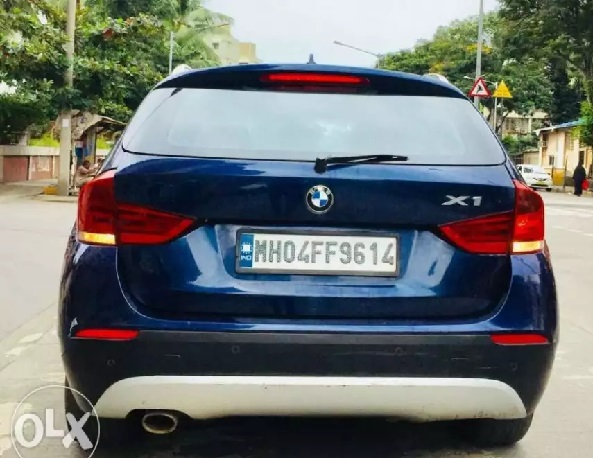licenseplate: (235, 230, 401, 278)
